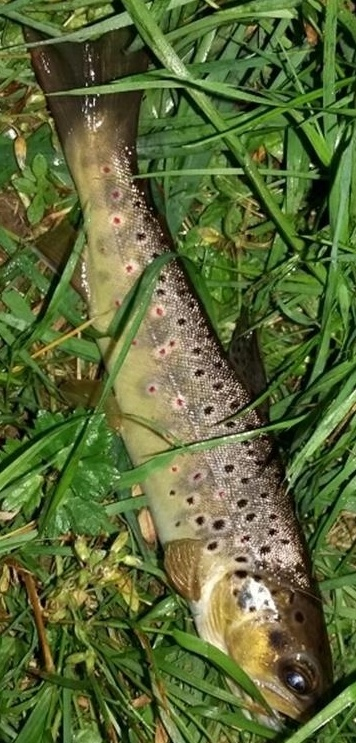Salmo trutta subsp. fario: (20, 20, 336, 723)
